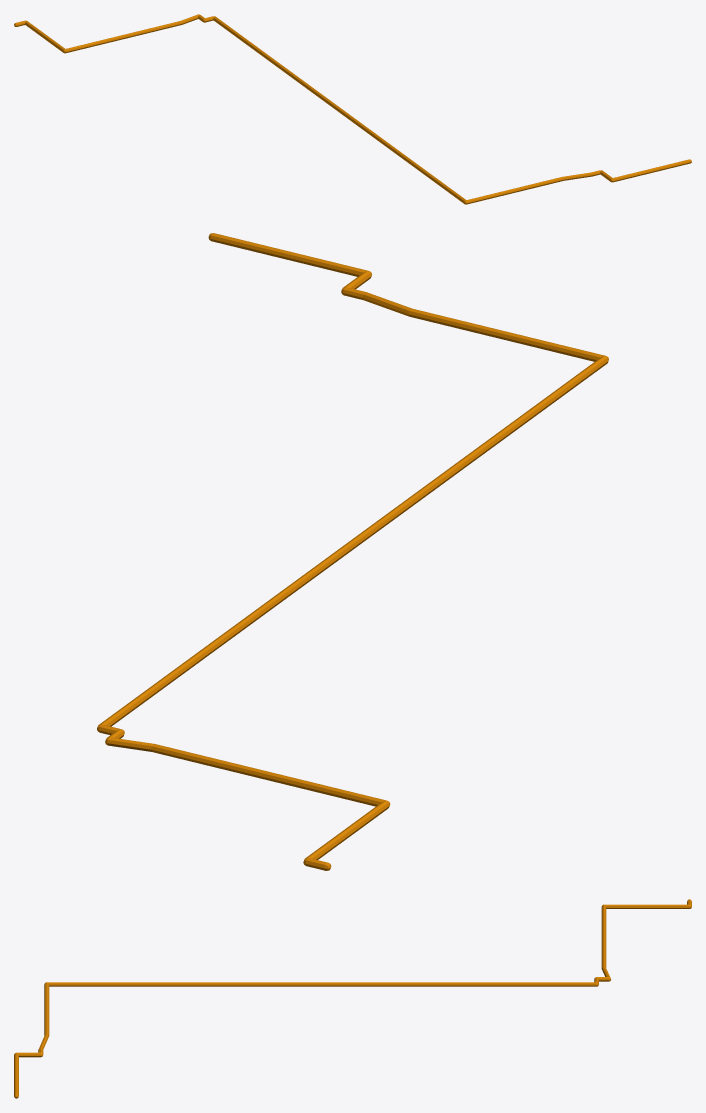
The picture shows the model from 3 angles, top to bottom: view 1: azimuth 30°, elevation 25°; view 2: azimuth 150°, elevation 25°; view 3: azimuth 270°, elevation 25°; orthographic projection. The views are drawn at different scales.
Size of the model in its own units: 1905 by 20 by 2774.
